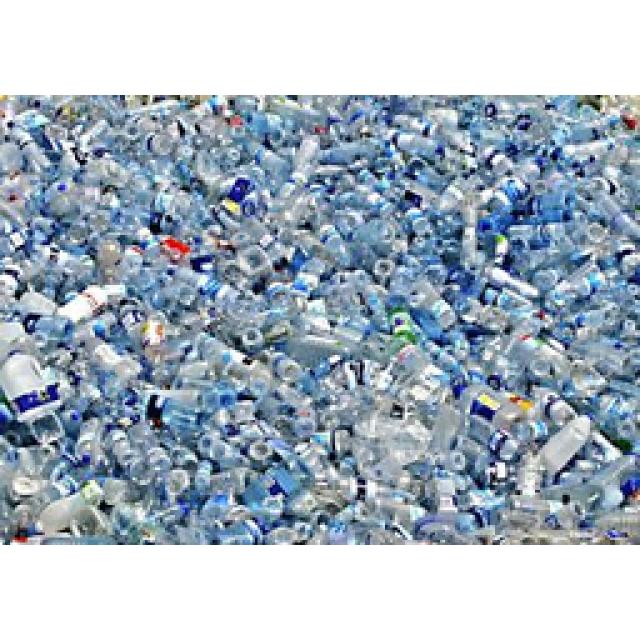plastic: (0, 90, 639, 540)
